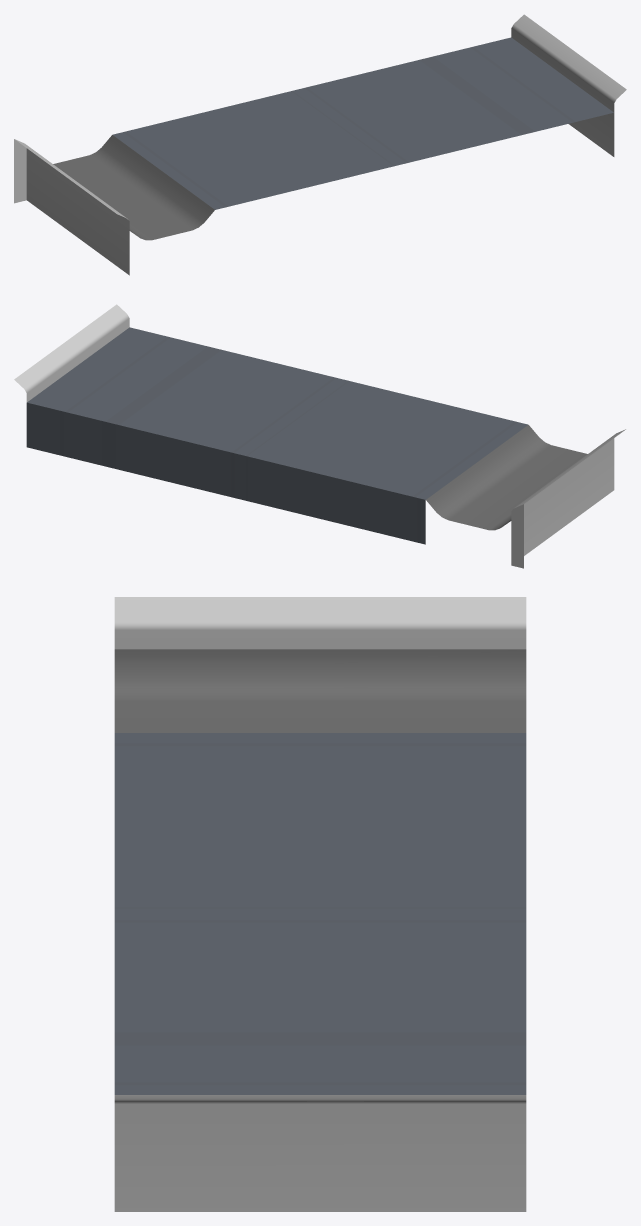
Rendered from road_back.fbx.
3 views of the same model, one above another, from view 1: azimuth 30°, elevation 25°; view 2: azimuth 150°, elevation 25°; view 3: azimuth 270°, elevation 25° (orthographic). The views are drawn at different scales.
Visible parts, largest first — view 1: road_back_m, cot_back, road_sp_back; view 2: road_back_m, cot_back, road_sp_back; view 3: road_back_m, cot_back, road_sp_back.
Boxes of the visible parts, left/top/right/bottom form: road_back_m: left=112, top=37, right=613, bottom=209; cot_back: left=14, top=14, right=626, bottom=275; road_sp_back: left=53, top=135, right=214, bottom=240; road_back_m: left=26, top=327, right=527, bottom=544; cot_back: left=14, top=304, right=625, bottom=568; road_sp_back: left=426, top=425, right=587, bottom=530; road_back_m: left=114, top=733, right=526, bottom=1094; cot_back: left=114, top=597, right=526, bottom=1211; road_sp_back: left=114, top=649, right=526, bottom=732.
Size of the model in its own units: 17.9 by 2.17 by 6.25.
